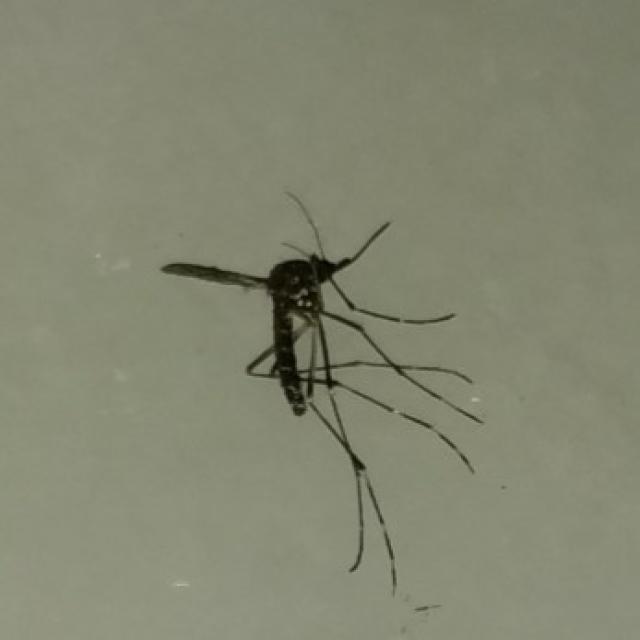albopictus: (164, 180, 478, 593)
